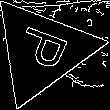P_E: (9, 24, 75, 77)
